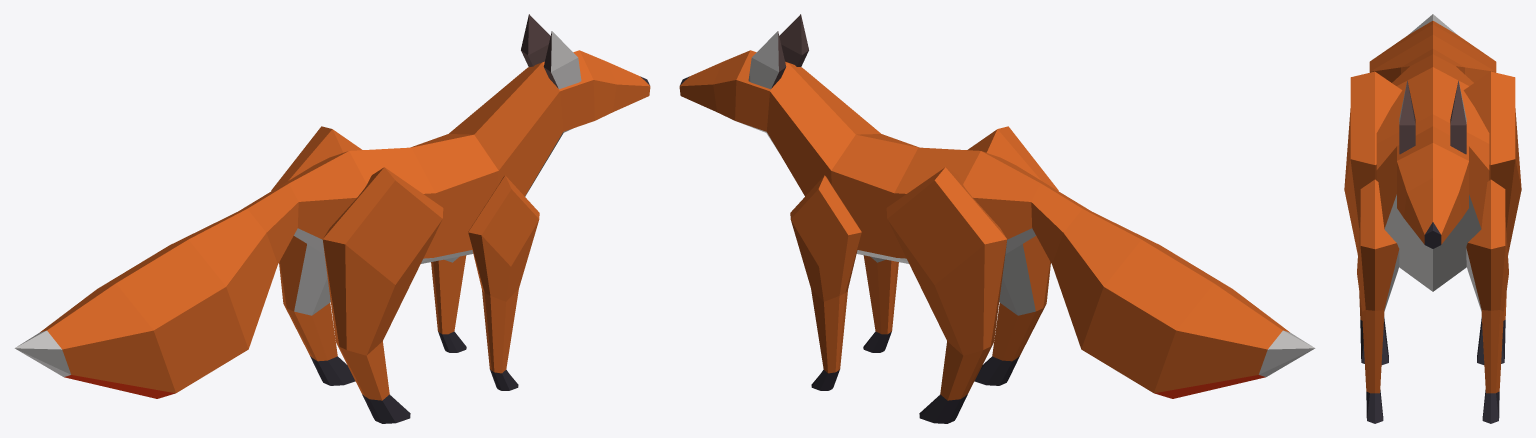
The model's file is Animal_Fox_001.fbx.
3 views of the same model, side by side, from view 1: azimuth 30°, elevation 25°; view 2: azimuth 150°, elevation 25°; view 3: azimuth 270°, elevation 25° (orthographic). The views are drawn at different scales.
Parts seen in each view (by area): view 1: Animal_Fox_001; view 2: Animal_Fox_001; view 3: Animal_Fox_001.
Boxes of the visible parts, x1,y1,x2,y2 form: Animal_Fox_001: [14, 14, 650, 423]; Animal_Fox_001: [679, 14, 1315, 423]; Animal_Fox_001: [1344, 14, 1521, 423].
Size of the model in its own units: 186 by 93.8 by 40.42.
